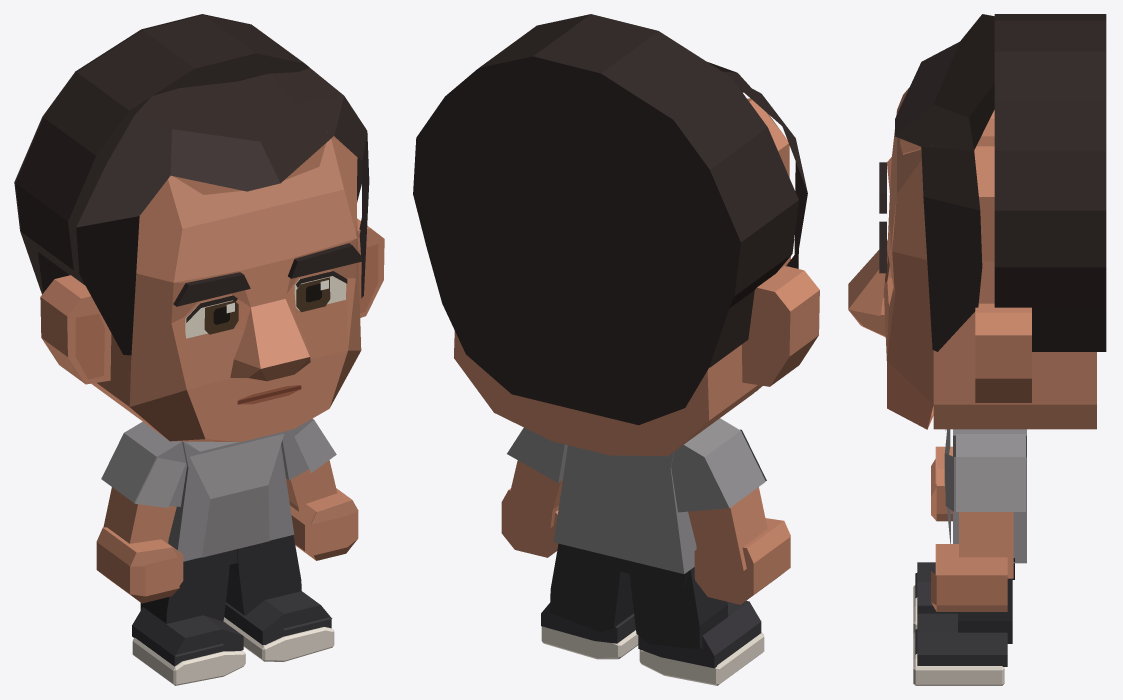
File: antes_foto_personagem.glb
The picture shows the model from 3 angles, left to right: view 1: azimuth 30°, elevation 25°; view 2: azimuth 150°, elevation 25°; view 3: azimuth 270°, elevation 25°; orthographic projection. The views are drawn at different scales.
Parts seen in each view (by area): view 1: Cabelo volume posterior, Testa central, Rosto plano inferior, Cabelo faceta 01, Cabelo faceta 00, Cabelo faceta 07, Tempora E, Testa superior, Cabelo faceta 03, Tronco camiseta, Perna da calca D, Orelha E (+44 smaller); view 2: Cabelo calota posterior, Cabelo volume posterior, Tronco camiseta, Cabeca volume, Orelha E, Manga E, Perna da calca E, Perna da calca D, Mao E, Braco E, Tenis E, Braco D (+8 smaller); view 3: Cabelo volume posterior, Cabeca volume, Cabelo faceta 06, Orelha D, Manga D, Tempora D, Mao D, Tenis D, Cabelo faceta 01, Cabelo faceta 05, Braco D, Tempora alta D (+17 smaller).
Boxes of the visible parts, bbox=[...] form: Cabelo volume posterior: bbox=[15, 15, 362, 292]; Testa central: bbox=[173, 189, 356, 282]; Rosto plano inferior: bbox=[187, 350, 347, 441]; Cabelo faceta 01: bbox=[135, 73, 294, 141]; Cabelo faceta 00: bbox=[76, 115, 171, 227]; Cabelo faceta 07: bbox=[76, 216, 139, 355]; Tempora E: bbox=[129, 273, 186, 406]; Testa superior: bbox=[168, 139, 343, 228]; Cabelo faceta 03: bbox=[170, 129, 280, 191]; Tronco camiseta: bbox=[168, 431, 294, 561]; Perna da calca D: bbox=[226, 535, 301, 615]; Orelha E: bbox=[40, 275, 111, 384]; Cabelo calota posterior: bbox=[413, 57, 739, 425]; Cabelo volume posterior: bbox=[478, 14, 798, 367]; Tronco camiseta: bbox=[554, 445, 696, 573]; Cabeca volume: bbox=[454, 98, 790, 456]; Orelha E: bbox=[741, 265, 819, 386]; Manga E: bbox=[671, 418, 765, 512]; Perna da calca E: bbox=[630, 567, 728, 649]; Perna da calca D: bbox=[550, 543, 633, 631]; Mao E: bbox=[694, 518, 790, 604]; Braco E: bbox=[688, 487, 767, 570]; Tenis E: bbox=[638, 600, 761, 668]; Braco D: bbox=[505, 460, 562, 527]; Cabelo volume posterior: bbox=[994, 14, 1106, 351]; Cabeca volume: bbox=[933, 110, 1096, 429]; Cabelo faceta 06: bbox=[923, 197, 982, 351]; Orelha D: bbox=[975, 303, 1031, 402]; Manga D: bbox=[956, 434, 1025, 511]; Tempora D: bbox=[887, 251, 933, 404]; Mao D: bbox=[936, 544, 1007, 611]; Tenis D: bbox=[917, 613, 1007, 666]; Cabelo faceta 01: bbox=[933, 14, 994, 117]; Cabelo faceta 05: bbox=[921, 147, 980, 210]; Braco D: bbox=[959, 512, 1013, 578]; Tempora alta D: bbox=[892, 145, 931, 259].
Bounding box in the file's own units: 3.84 × 6.7 × 2.57.
